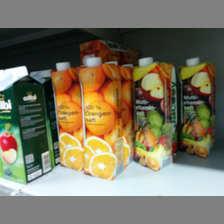juice: (78, 57, 127, 180), (1, 66, 52, 183), (132, 56, 176, 171), (179, 57, 214, 158), (51, 58, 81, 171)
